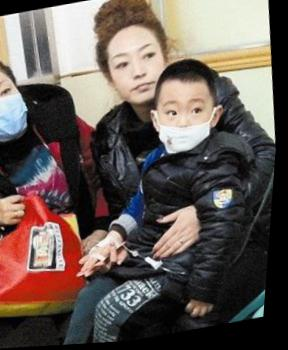NONE: (110, 40, 170, 106)
OK: (1, 72, 39, 148)
WRONG: (153, 91, 221, 158)
